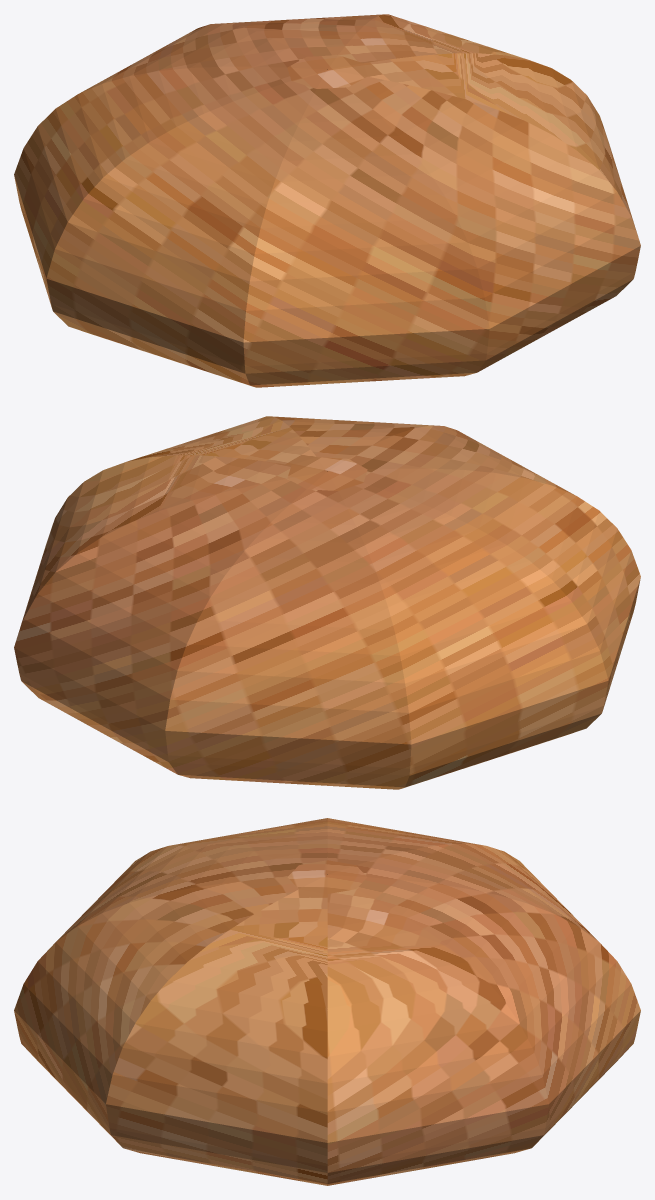
The model's file is round_bread.fbx.
3 views of the same model, one above another, from view 1: azimuth 30°, elevation 25°; view 2: azimuth 150°, elevation 25°; view 3: azimuth 270°, elevation 25° (orthographic). The views are drawn at different scales.
Visible parts, largest first — view 1: BezierCurve; view 2: BezierCurve; view 3: BezierCurve.
Boxes of the visible parts, left/top/right/bottom form: BezierCurve: left=14, top=14, right=640, bottom=387; BezierCurve: left=14, top=416, right=640, bottom=789; BezierCurve: left=14, top=818, right=640, bottom=1185.
Bounding box in the file's own units: 9.82 × 3.92 × 9.82.
